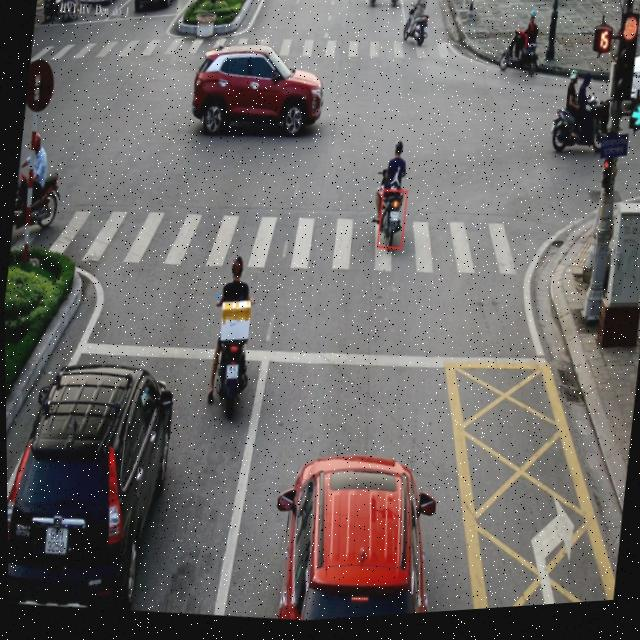Red: (609, 21, 640, 113)
